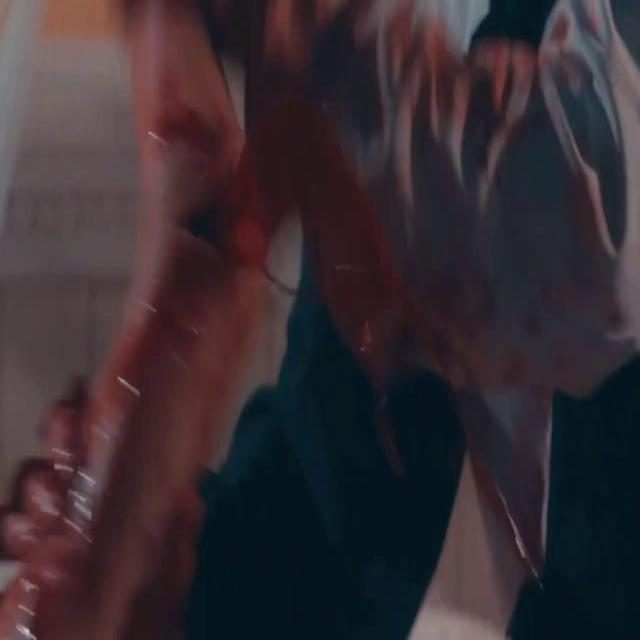flood: (0, 187, 246, 640)
